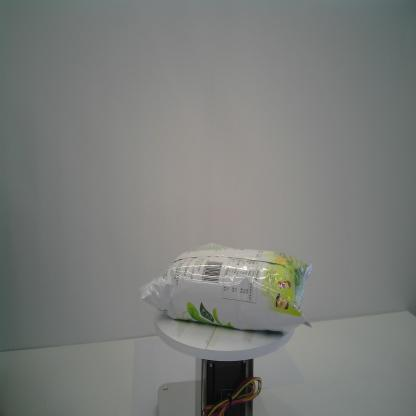Puffed Food: (136, 242, 314, 333)
